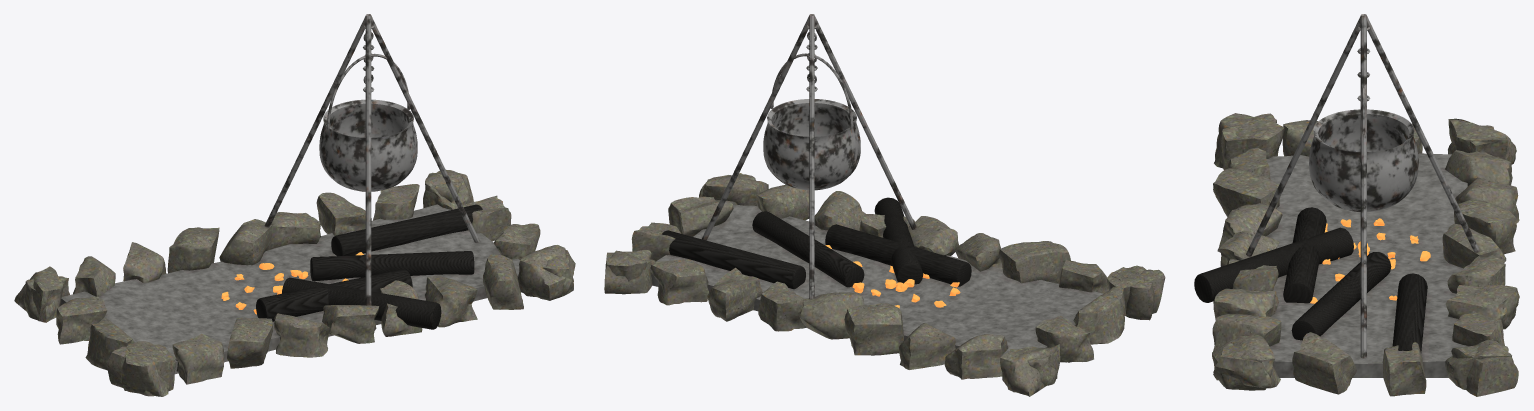
Rendered from hearth_long.glb.
3 renders of one model, left to right at view 1: azimuth 30°, elevation 25°; view 2: azimuth 150°, elevation 25°; view 3: azimuth 270°, elevation 25°, orthographic. The views are drawn at different scales.
Visible parts, largest first — view 1: hearth_long; view 2: hearth_long; view 3: hearth_long.
Boxes of the visible parts, x1,y1,x2,y2 form: hearth_long: [14, 14, 575, 396]; hearth_long: [604, 14, 1165, 396]; hearth_long: [1194, 14, 1519, 396].
Size of the model in its own units: 2.29 by 1.26 by 1.26.
Materials: 2 (1 with a texture image).
